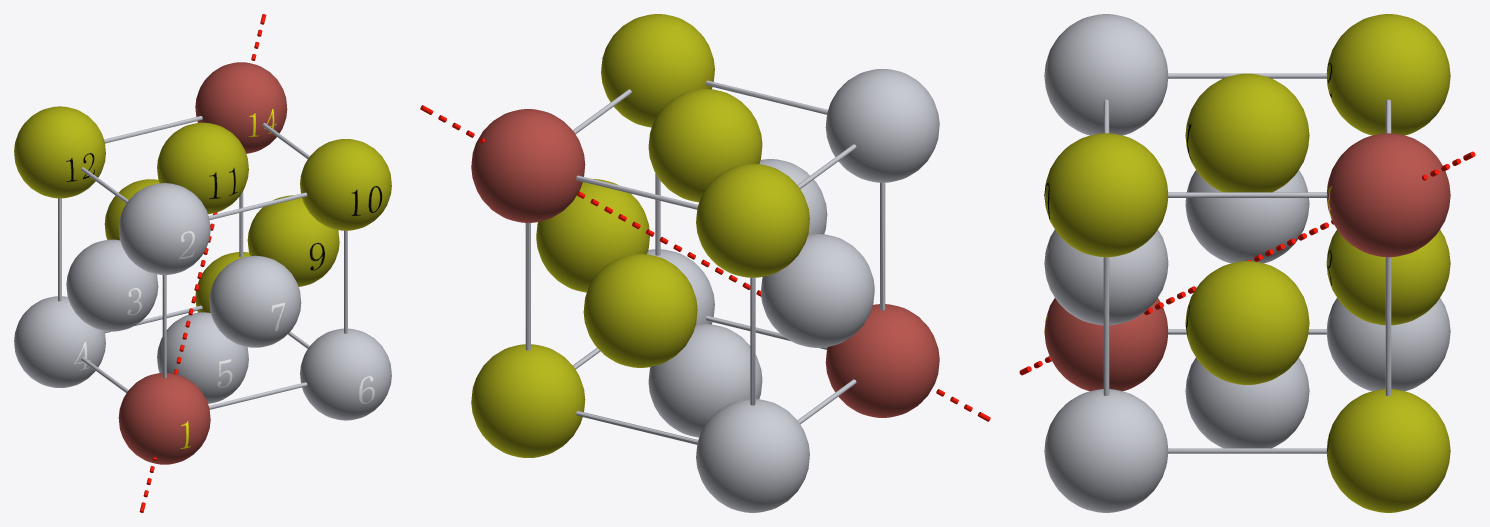
Rendered from lingA.FBX.
The picture shows the model from 3 angles, left to right: view 1: azimuth 30°, elevation 25°; view 2: azimuth 150°, elevation 25°; view 3: azimuth 270°, elevation 25°; orthographic projection. The views are drawn at different scales.
Parts seen in each view (by area): view 1: Box008, Box006, Box001, Box009, Box003, Box011, Box007, Box002, Box010, Box014, Box012, Box004 (+4 smaller); view 2: Box013, Box011, Box002, Box014, Box005, Box008, Box007, Box001, Box010, Box009, Box004, Box012 (+4 smaller); view 3: Box012, Box009, Box005, Box003, Box014, Box010, Box008, Box011, Box004, Box006, Box013, Box002 (+4 smaller).
Part boxes in pixels (x1,y1,x2,y2): Box008: [118, 183, 210, 274]; Box006: [209, 255, 301, 347]; Box001: [118, 373, 210, 464]; Box009: [300, 139, 391, 230]; Box003: [300, 328, 391, 420]; Box011: [14, 106, 105, 198]; Box007: [66, 239, 158, 331]; Box002: [14, 296, 105, 387]; Box010: [157, 122, 248, 214]; Box014: [195, 62, 287, 153]; Box012: [247, 195, 339, 286]; Box004: [157, 312, 248, 403]; Box013: [583, 254, 697, 367]; Box011: [696, 163, 809, 277]; Box002: [696, 399, 809, 512]; Box014: [471, 109, 585, 222]; Box005: [471, 344, 585, 457]; Box008: [825, 69, 939, 182]; Box007: [761, 234, 874, 347]; Box001: [825, 304, 939, 417]; Box010: [648, 89, 762, 202]; Box009: [601, 14, 714, 127]; Box004: [648, 324, 762, 437]; Box012: [536, 179, 649, 292]; Box012: [1185, 261, 1309, 384]; Box009: [1044, 133, 1168, 257]; Box005: [1326, 389, 1450, 512]; Box003: [1044, 389, 1168, 512]; Box014: [1326, 133, 1450, 257]; Box010: [1185, 73, 1309, 192]; Box008: [1044, 14, 1168, 135]; Box011: [1326, 14, 1450, 135]; Box004: [1185, 357, 1309, 448]; Box006: [1044, 229, 1168, 325]; Box013: [1326, 229, 1450, 325]; Box002: [1326, 298, 1450, 391].
Bounding box in the file's own units: 80.82 × 80.82 × 80.82.
